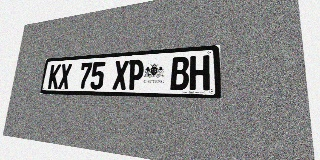5: (90, 62, 105, 89)
7: (78, 62, 93, 89)
B: (170, 56, 189, 90)
H: (189, 55, 210, 90)
K: (47, 64, 61, 89)
P: (127, 59, 144, 90)
X: (112, 60, 129, 90), (58, 64, 72, 89)
